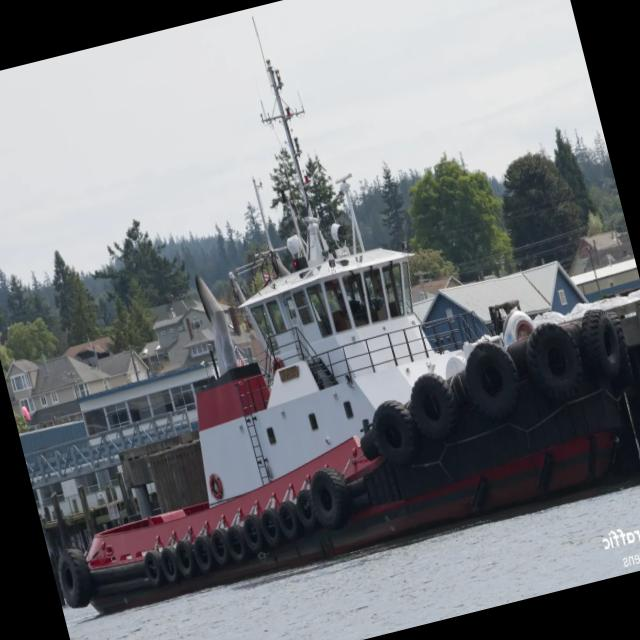Tug: (59, 60, 633, 613)
